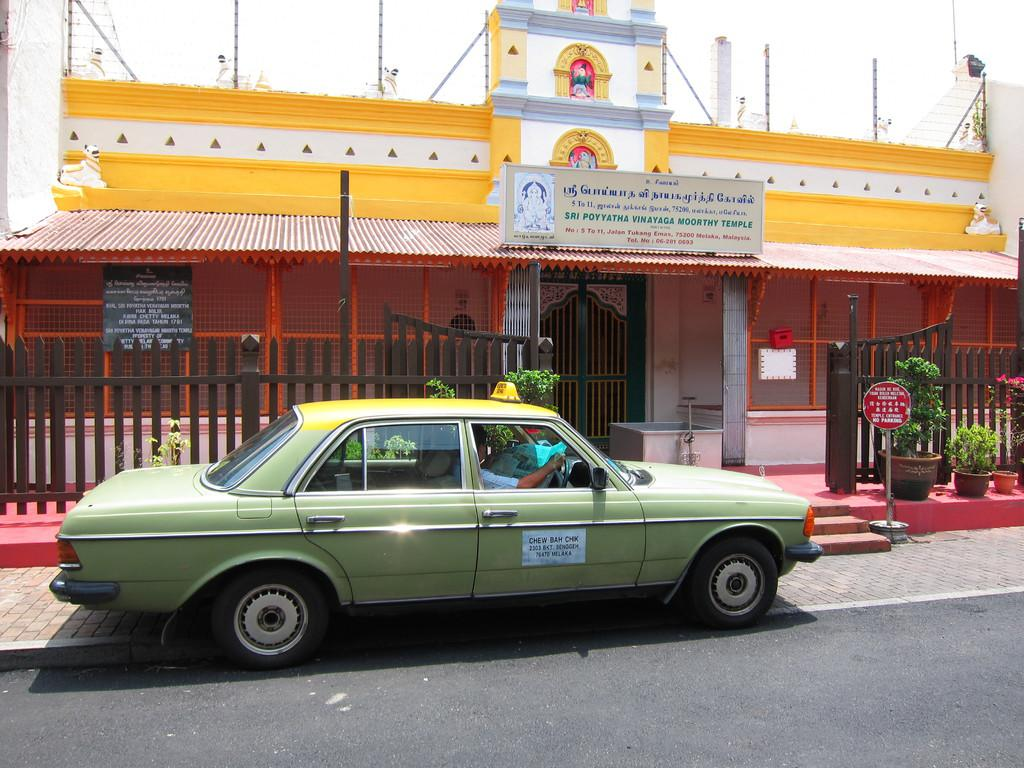taxi: (49, 382, 825, 670)
